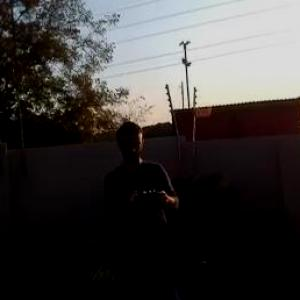follow: (98, 110, 199, 299)
